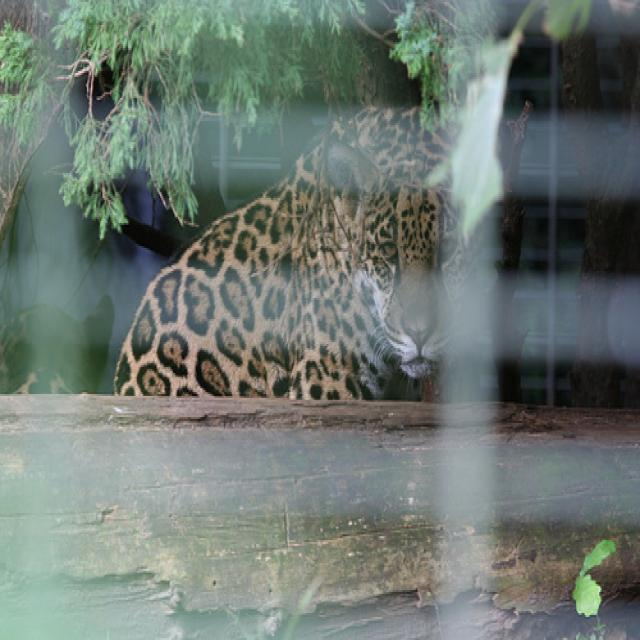Leopard: (108, 100, 476, 402)
